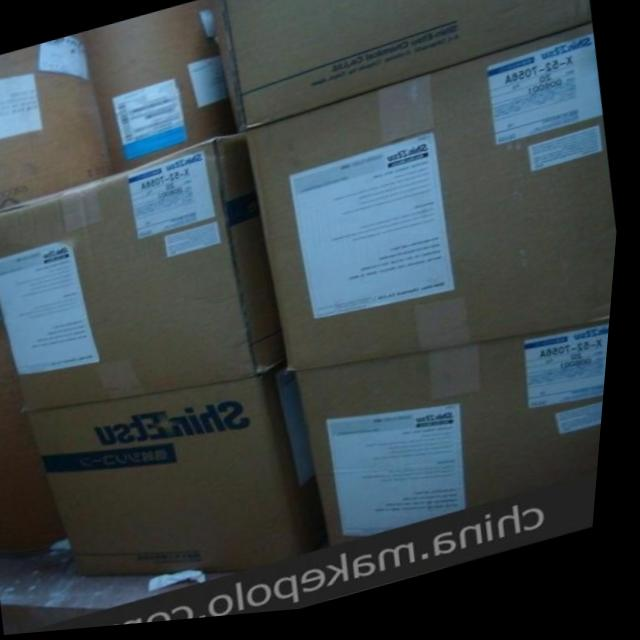box: (245, 32, 621, 379), (0, 139, 294, 414), (301, 330, 616, 554), (32, 364, 337, 577), (213, 0, 593, 137), (82, 0, 239, 175), (0, 298, 77, 560), (0, 36, 116, 209)
